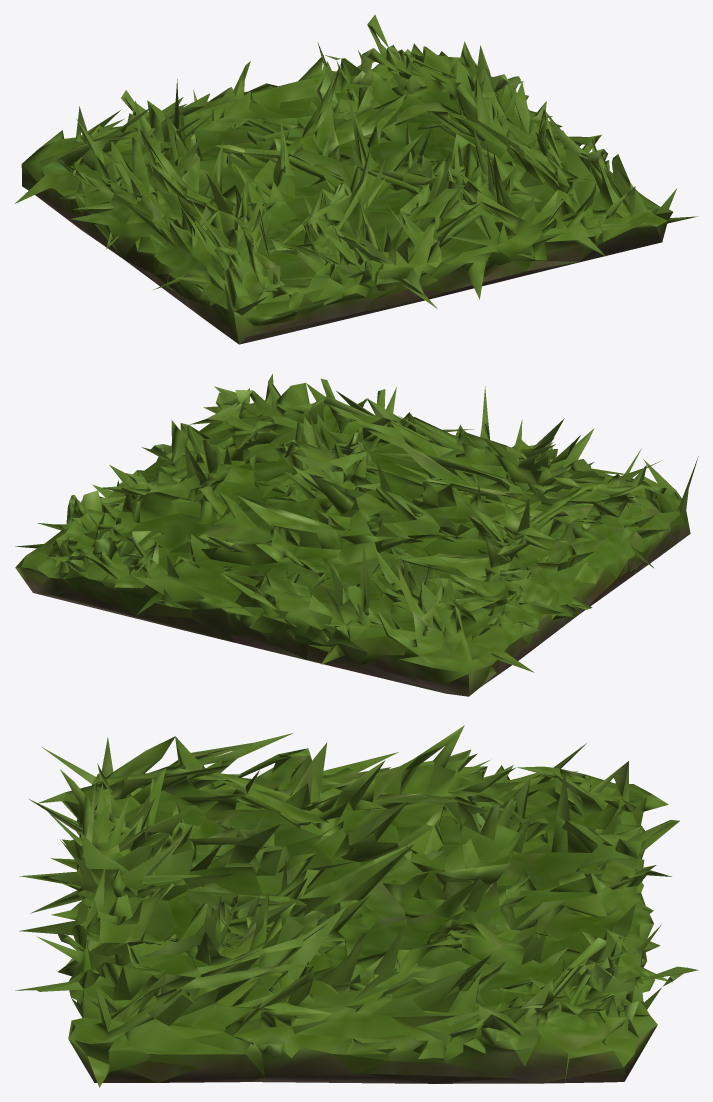
File: rumput_lod2.glb
The picture shows the model from 3 angles, top to bottom: view 1: azimuth 30°, elevation 25°; view 2: azimuth 150°, elevation 25°; view 3: azimuth 270°, elevation 25°; orthographic projection. The views are drawn at different scales.
Visible parts, largest first — view 1: tripo_node_c68d43a0-8aae-4132-96d6-89077a3e6fa0; view 2: tripo_node_c68d43a0-8aae-4132-96d6-89077a3e6fa0; view 3: tripo_node_c68d43a0-8aae-4132-96d6-89077a3e6fa0.
Part boxes in pixels (bbox=[...]): tripo_node_c68d43a0-8aae-4132-96d6-89077a3e6fa0: bbox=[15, 14, 698, 344]; tripo_node_c68d43a0-8aae-4132-96d6-89077a3e6fa0: bbox=[15, 374, 698, 696]; tripo_node_c68d43a0-8aae-4132-96d6-89077a3e6fa0: bbox=[15, 725, 698, 1087].
Size of the model in its own units: 0.9833 by 0.1979 by 0.9163.
1 material, 1 textured.
